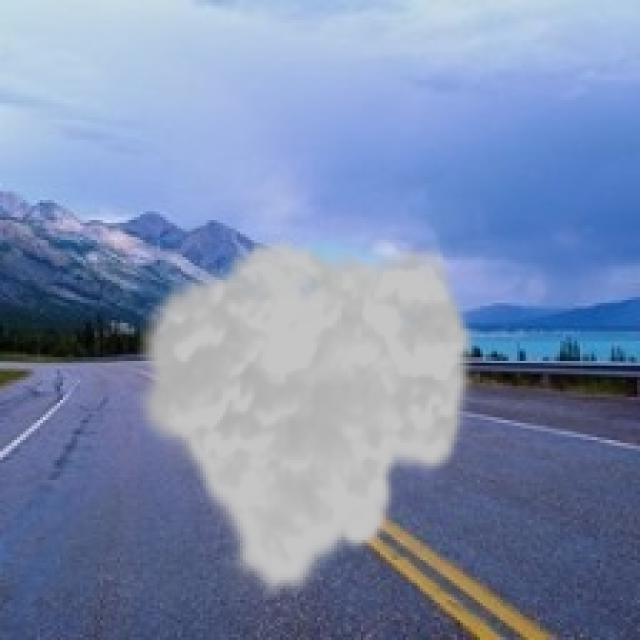Smoke: (128, 234, 480, 603)
